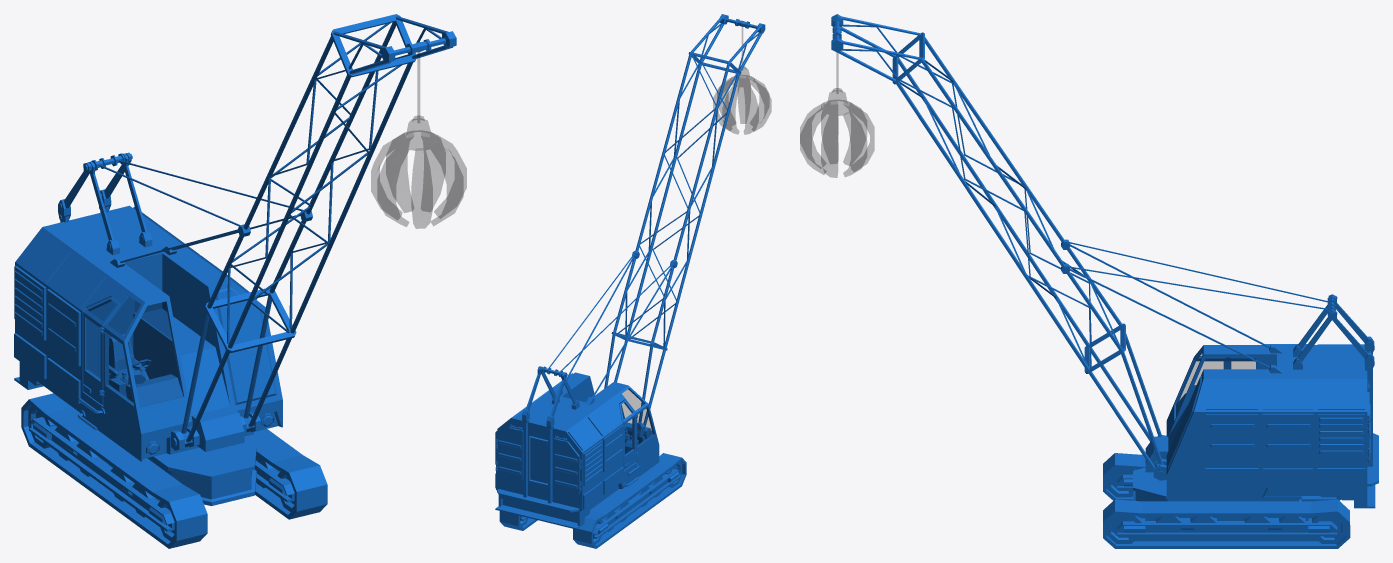
The model's file is POLY_crane.fbx.
3 views of the same model, side by side, from view 1: azimuth 30°, elevation 25°; view 2: azimuth 150°, elevation 25°; view 3: azimuth 270°, elevation 25° (orthographic). The views are drawn at different scales.
Parts seen in each view (by area): view 1: Cube_7, Cube_3, Sphere; view 2: Cube_7, Cube_3, Sphere; view 3: Cube_7, Cube_3, Sphere.
Boxes of the visible parts, x1,y1,x2,y2 form: Cube_7: [14, 14, 456, 461]; Cube_3: [21, 393, 327, 548]; Sphere: [371, 116, 466, 228]; Cube_7: [495, 14, 765, 529]; Cube_3: [499, 453, 686, 548]; Sphere: [713, 66, 771, 134]; Cube_7: [831, 14, 1378, 508]; Cube_3: [1103, 453, 1350, 548]; Sphere: [800, 88, 874, 177].
Size of the model in its own units: 361 by 1383 by 1473.
